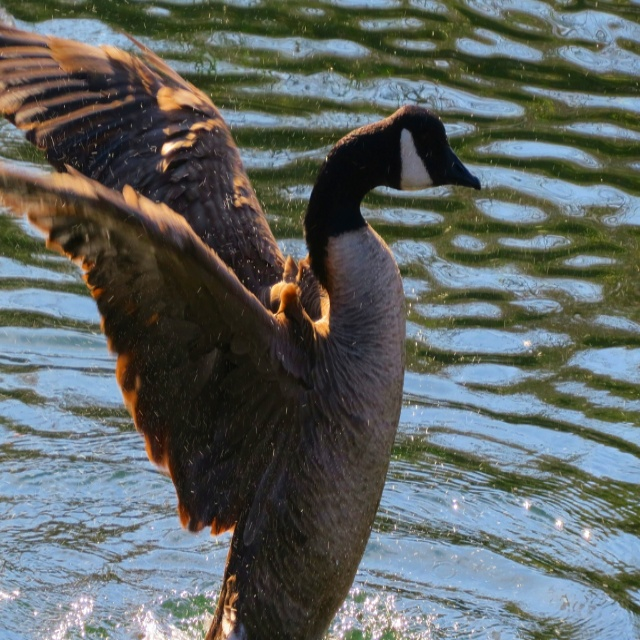Duck: (0, 20, 481, 640)
